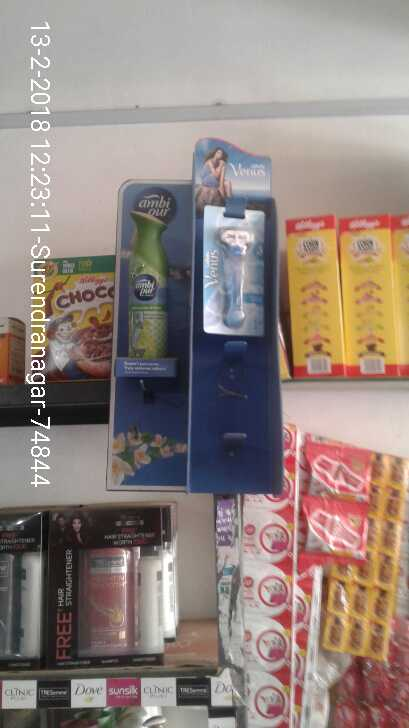beauty: (197, 208, 262, 337)
home: (116, 204, 170, 363)
